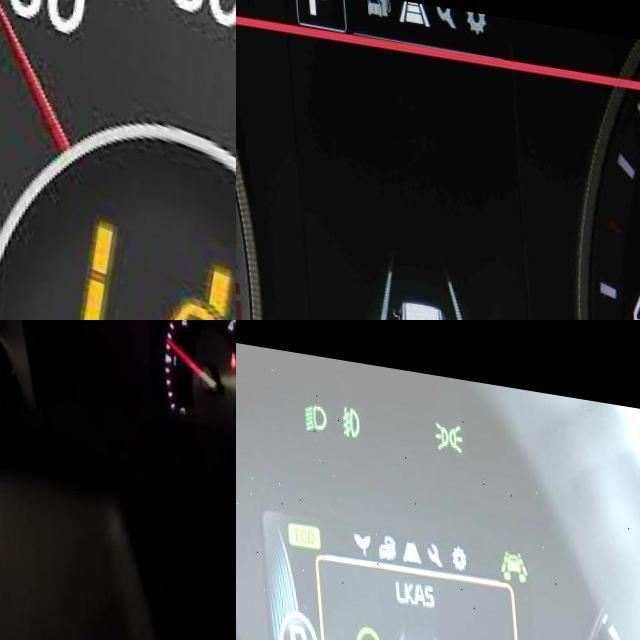Seat Belt: (224, 343, 232, 361)
